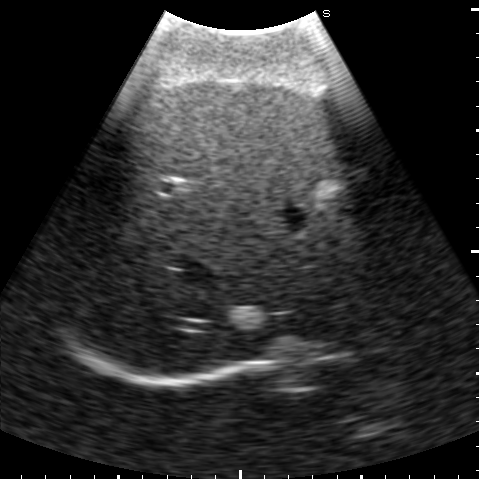S5: (128, 80, 359, 204)
S7: (63, 179, 173, 341)
S8: (127, 193, 392, 376)
Tumor: (228, 303, 261, 329), (313, 177, 348, 199)
